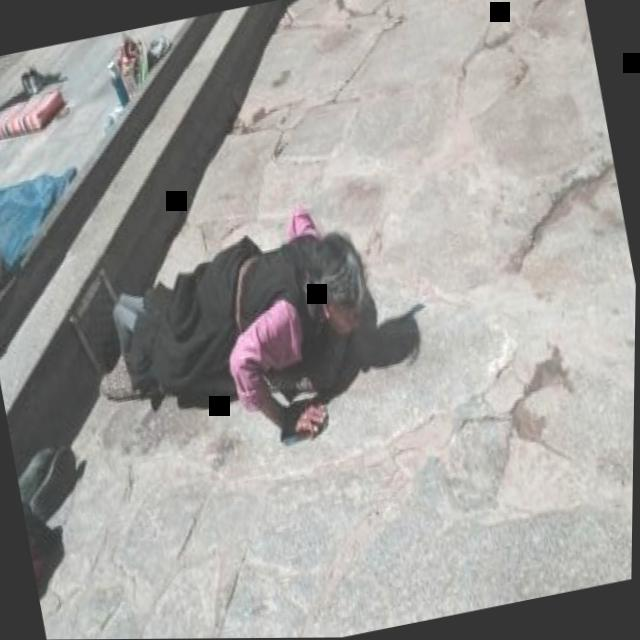Fall-Detected: (0, 44, 79, 155)
